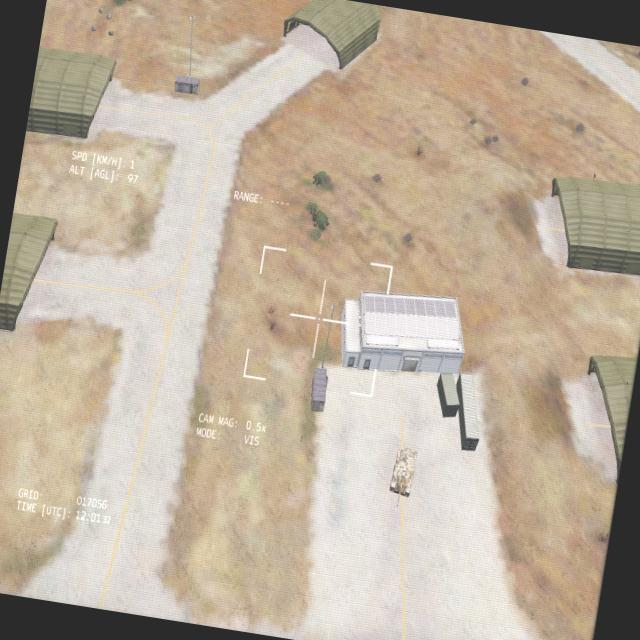tank: (384, 444, 420, 510)
